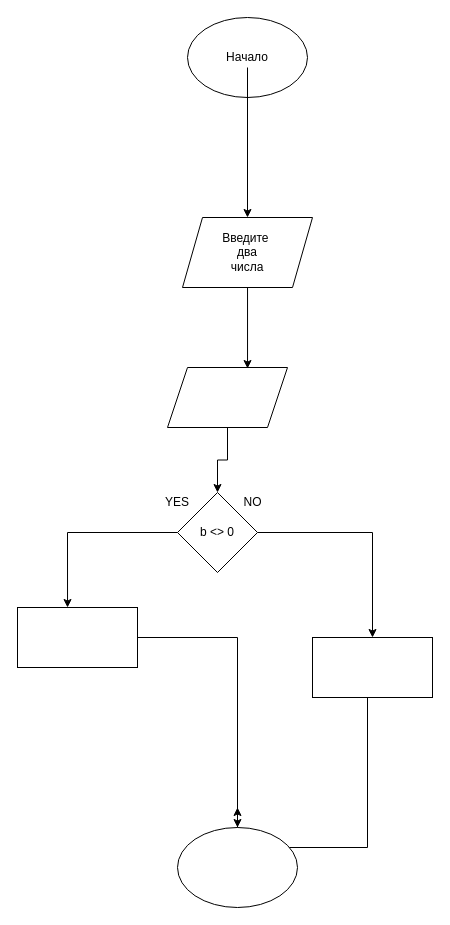
Image size: 450x925. Some labels were removed from this diagram. The shapes that lost their labels are listed below. From the top down, each one's centre as x and y in pixels, then its label:
[227,397]: Ввод a, b
[237,867]: Конец
